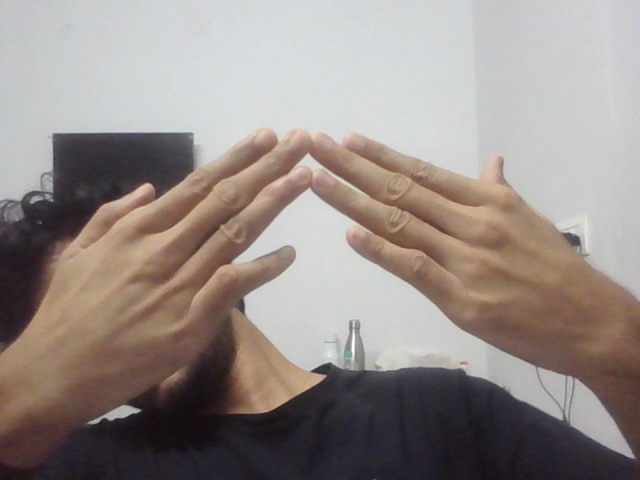Thanks: (22, 92, 610, 449)
